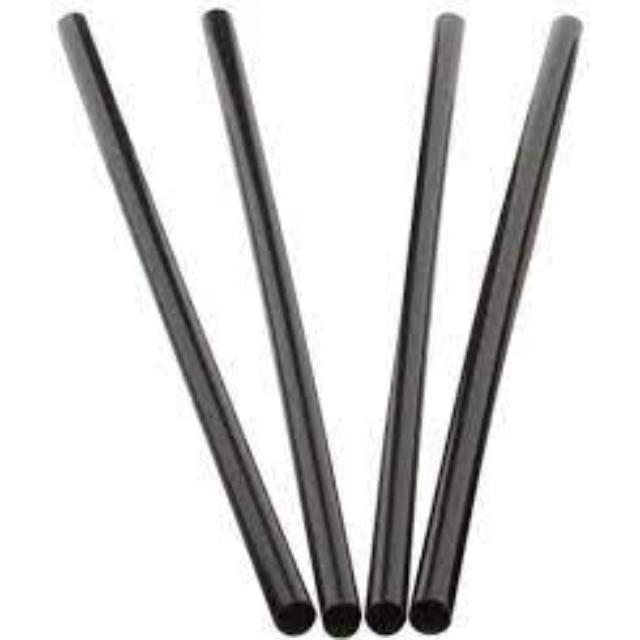Plastico descartable: (59, 14, 314, 633), (410, 16, 581, 633), (204, 10, 360, 636), (368, 14, 464, 634)
